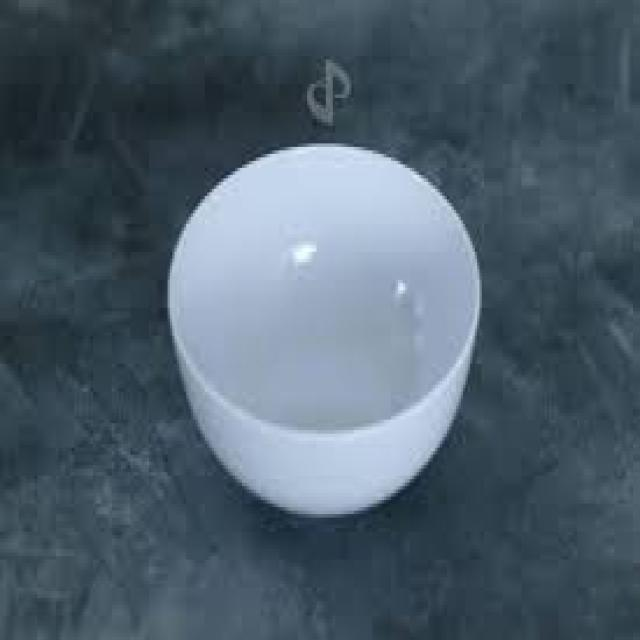Mangkok: (155, 125, 496, 538)
